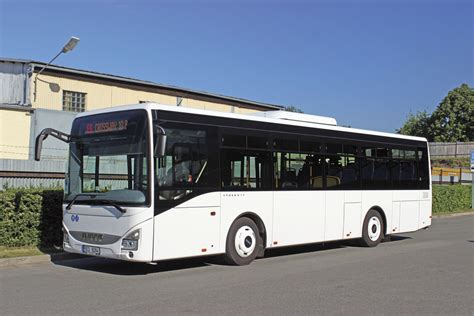bus: (65, 107, 433, 267)
